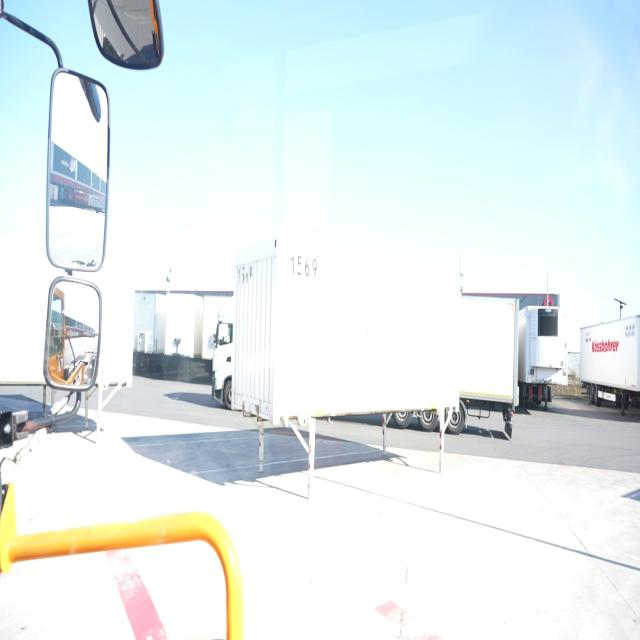Code: (288, 249, 320, 284)
